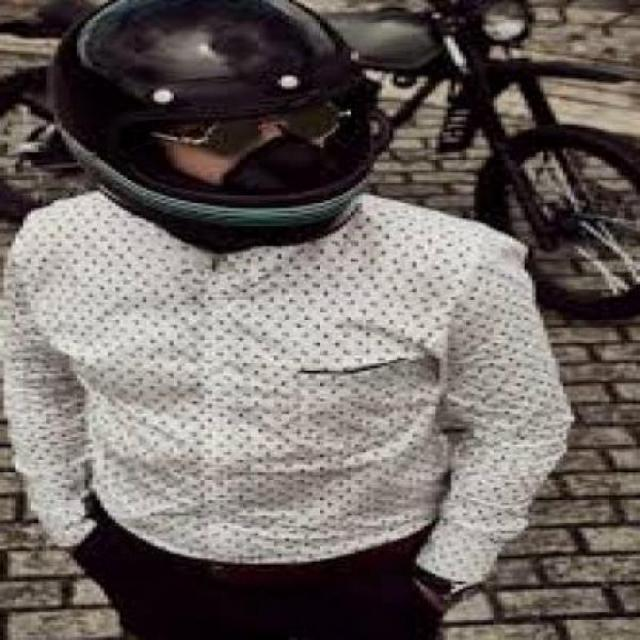Helmet: (35, 0, 387, 227)
